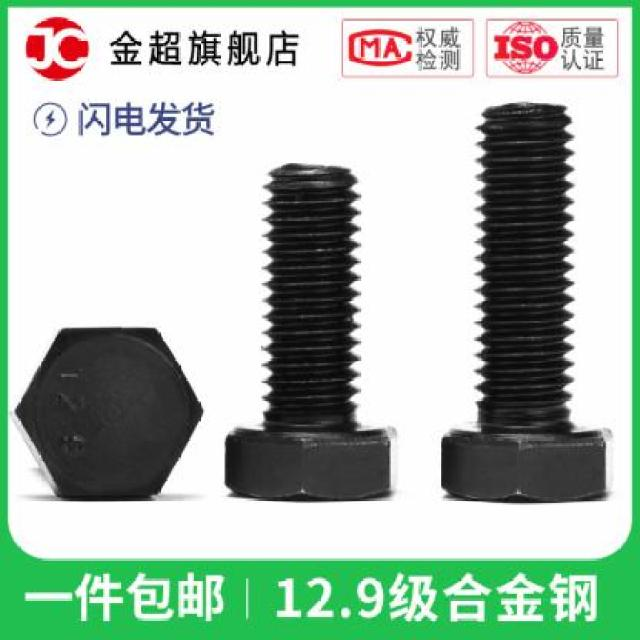Bolt: (437, 100, 619, 506), (222, 162, 402, 508), (14, 326, 205, 502)
